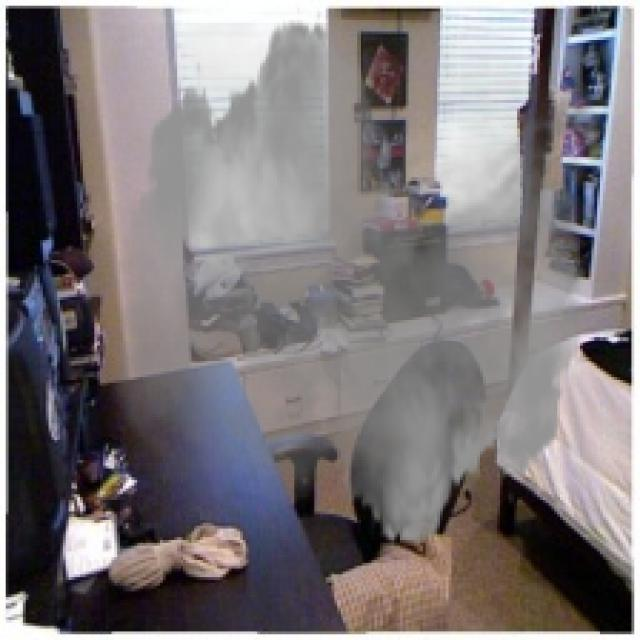smoke: (100, 3, 623, 563)
